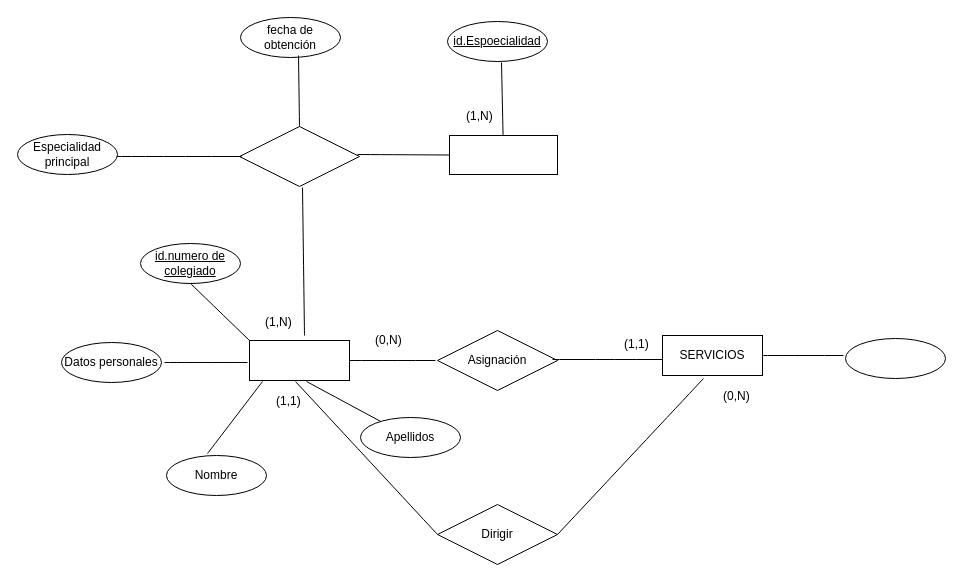
The diagram is 963 pixels wide and 582 high, and some of its shapes have lost their labels. Each missing label, with the centre of its shape:
ESPECIALIDADES: (503,154)
id.nombre del servicio: (895,358)
MEDICOS: (299,360)
Tener: (299,156)
